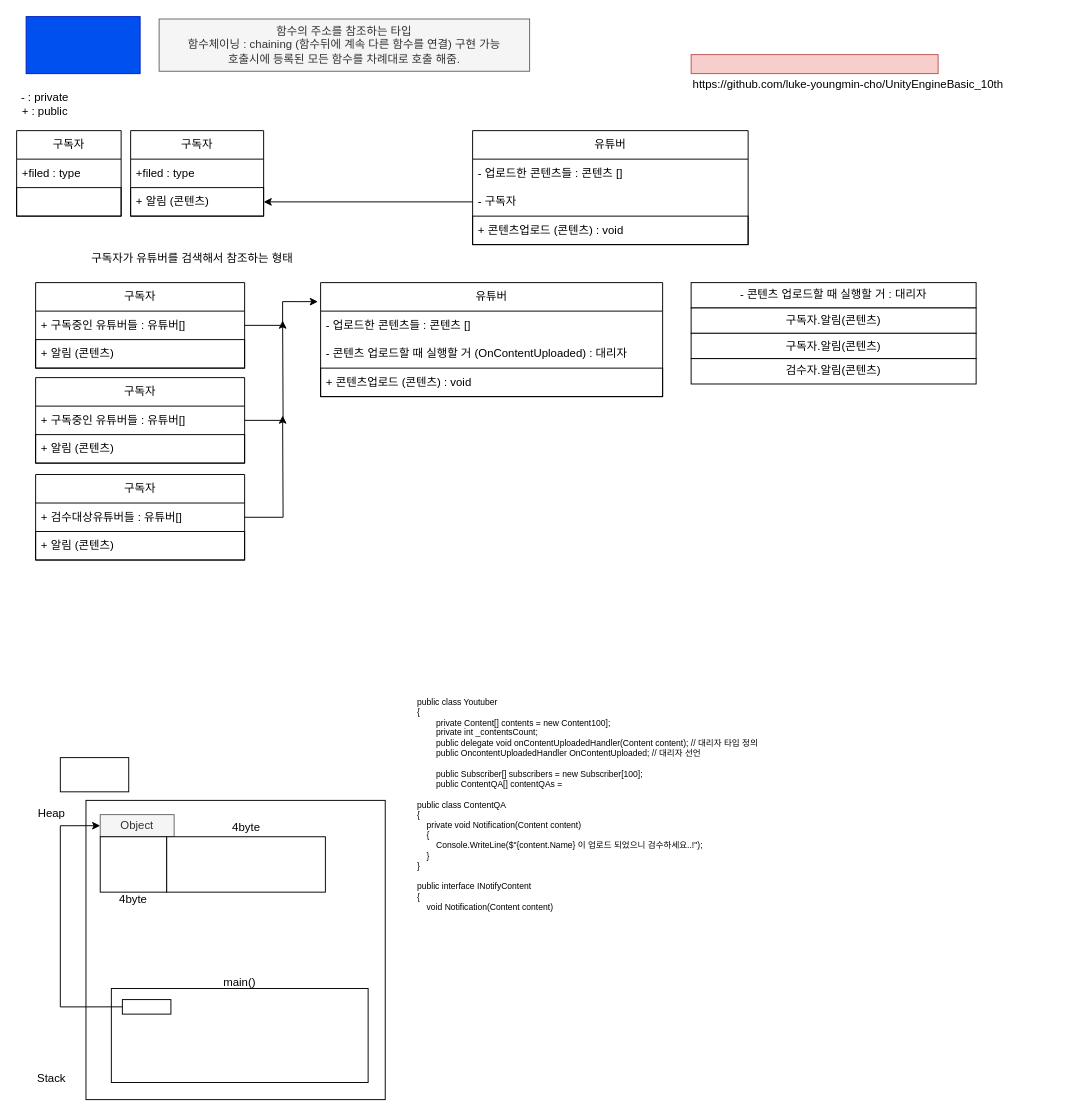
The diagram is 1081 pixels wide and 1116 high, and some of its shapes have lost their labels. Each missing label, with the centre of its shape:
"+ method (type) : type" belongs at point 68,201.
"-강의자료 올려준 것 확인 + 복습 내 깃허브에 옮겨놓기" belongs at point 814,64.
"Boxing Unboxing" belongs at point 94,774.
"Delegate (대리자)" belongs at point 82,45.
"int Typeinfo" belongs at point 133,864.
"Object obj" belongs at point 146,1006.
